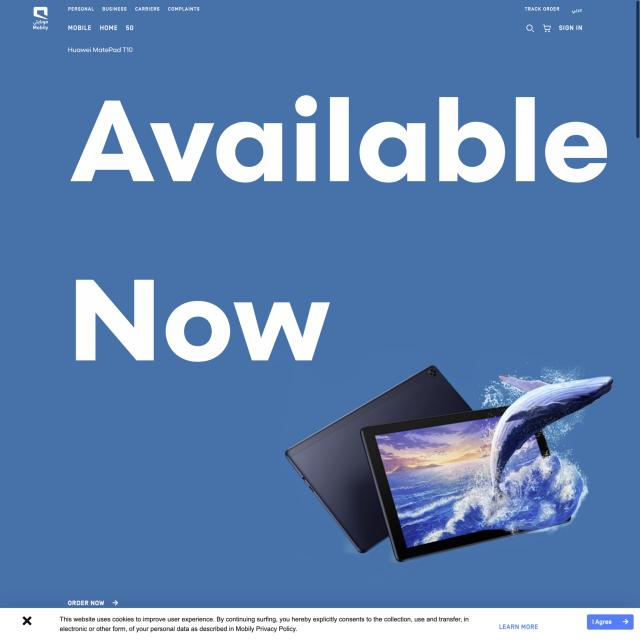logo: (29, 6, 55, 34)
navigation: (64, 4, 204, 15), (66, 23, 138, 33)
